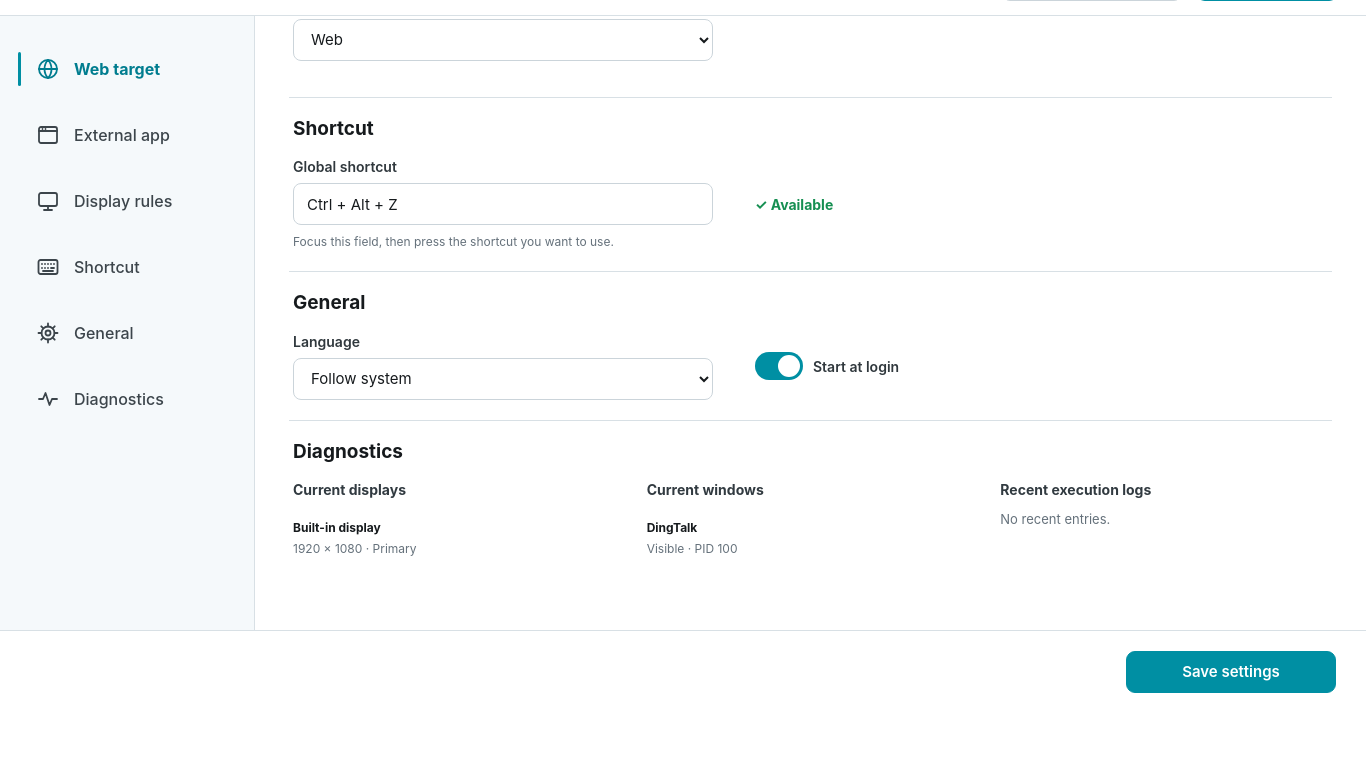
Scenario: TouchFish settings › switches to Chinese and safely back to English from the header selector
(page scrolled)
Select "Simplified Chinese" in the dropdown labelled "Language". click: (503, 379)
box: [293,358,713,400]
(page scrolled)
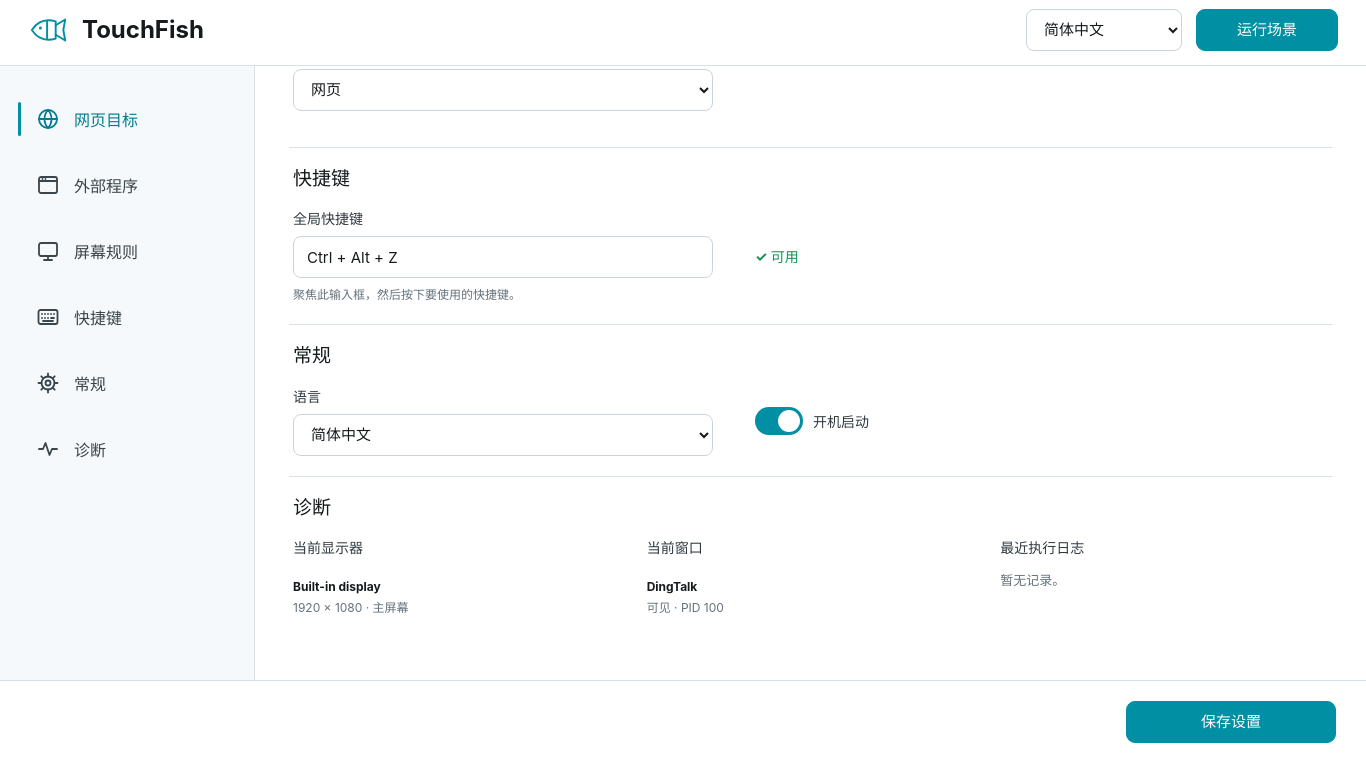
Result: the button "保存设置" is shown at [1126,700,1336,742]
Result: the link "Web target" is gone
Select "English" in the dropdown named "快速选择语言". click: (1104, 30)
box: [1026,8,1182,50]
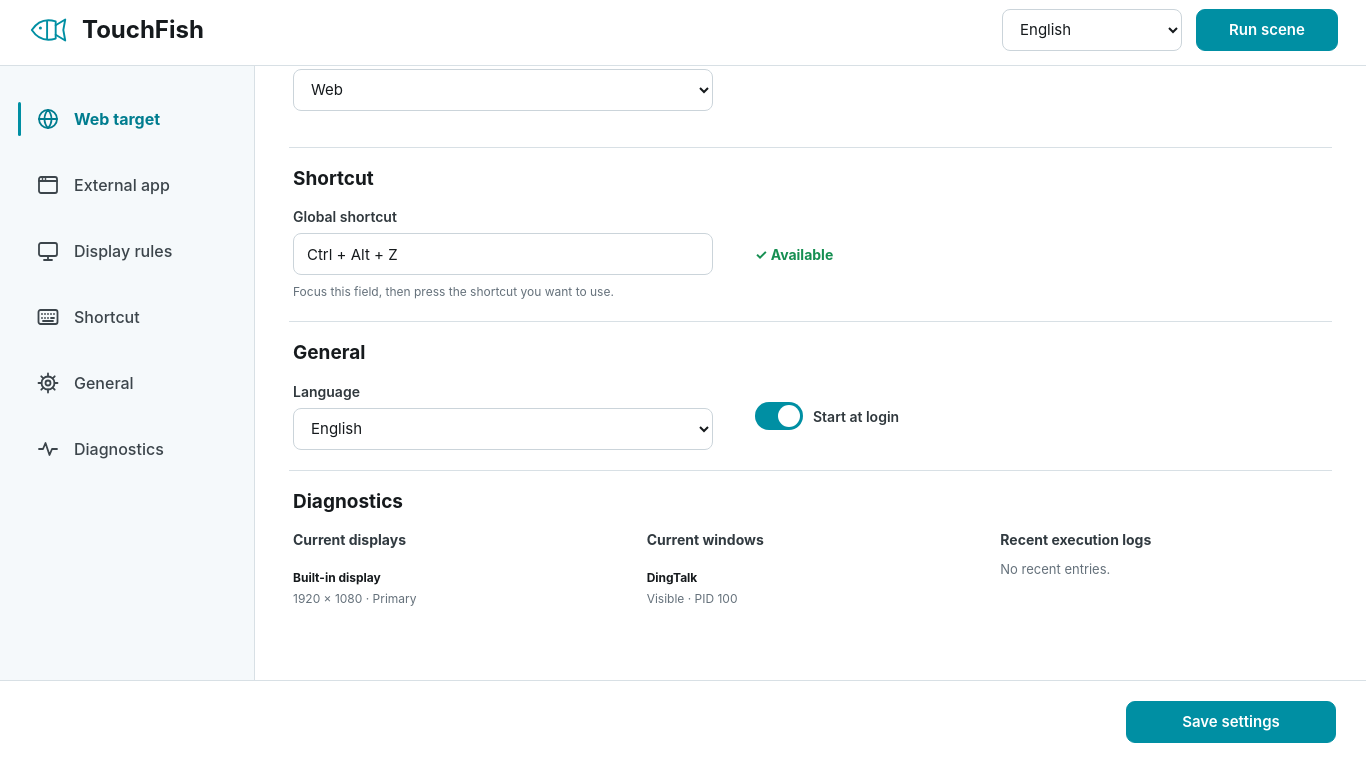
Result: the button "Run scene" is shown at [1196,8,1338,50]
Result: the button "Save settings" is shown at [1126,700,1336,742]
